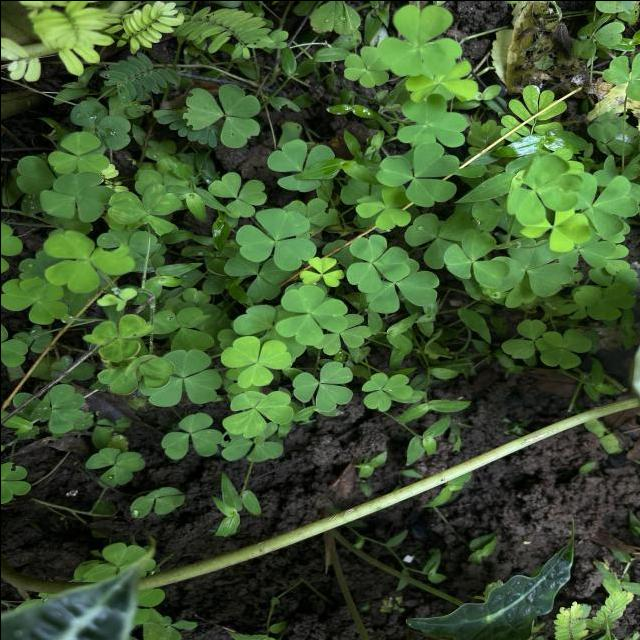Oxalis corniculata: (374, 140, 460, 208), (181, 82, 261, 149), (137, 346, 221, 408), (235, 208, 318, 270), (274, 283, 348, 345), (106, 181, 182, 236), (441, 230, 510, 290), (395, 92, 468, 148), (344, 233, 409, 293), (220, 334, 292, 388), (81, 311, 155, 363), (38, 170, 110, 222), (266, 138, 335, 192), (220, 389, 294, 438), (0, 276, 68, 324), (518, 208, 592, 252), (292, 359, 352, 412), (160, 410, 222, 460), (206, 170, 268, 218), (46, 130, 110, 176), (84, 446, 146, 488), (354, 184, 410, 230), (533, 327, 593, 369), (572, 282, 636, 321), (342, 44, 392, 88), (361, 372, 413, 412), (298, 255, 345, 288)
